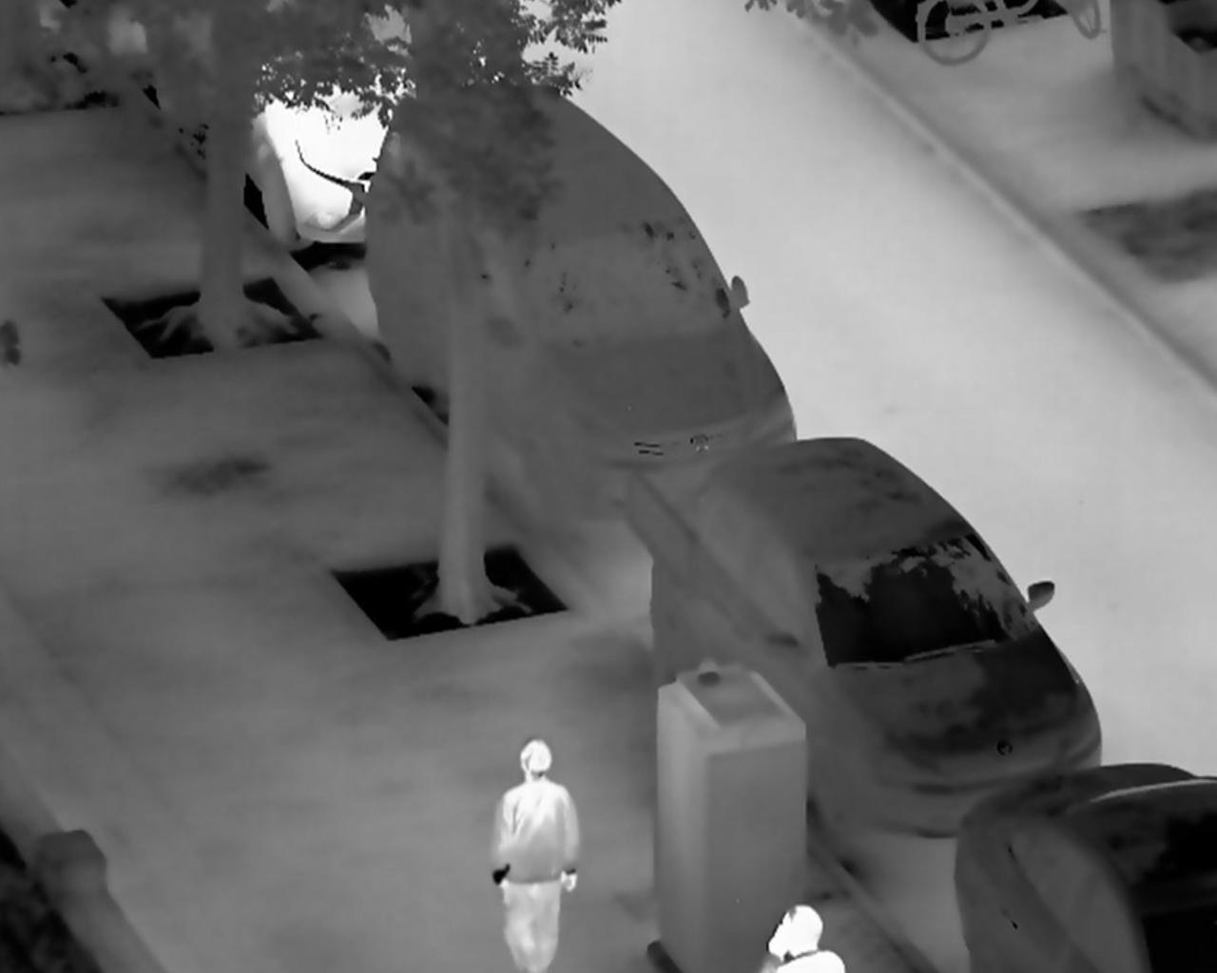person: (489, 733, 589, 973)
